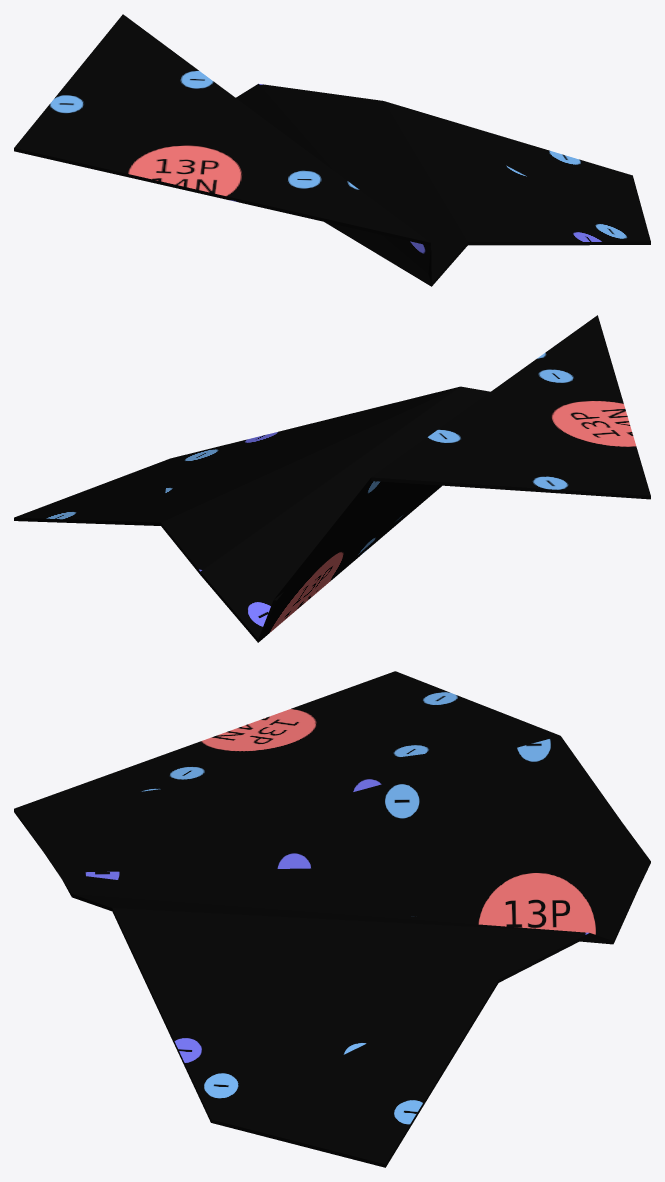
The model's file is metal.dae.
3 views of the same model, one above another, from view 1: azimuth 30°, elevation 25°; view 2: azimuth 150°, elevation 25°; view 3: azimuth 270°, elevation 25° (orthographic). The views are drawn at different scales.
Visible parts, largest first — view 1: SketchUp; view 2: SketchUp; view 3: SketchUp.
Part boxes in pixels (x1=…): SketchUp: x1=14, y1=14, x2=650, y2=286; SketchUp: x1=14, y1=315, x2=650, y2=642; SketchUp: x1=14, y1=671, x2=650, y2=1167.
Size of the model in its own units: 65.66 by 56.61 by 21.15.
